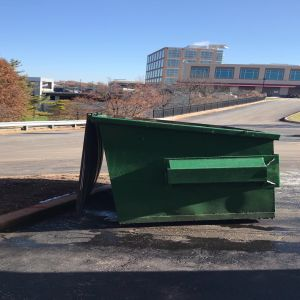Dumpster: (74, 110, 282, 226)
